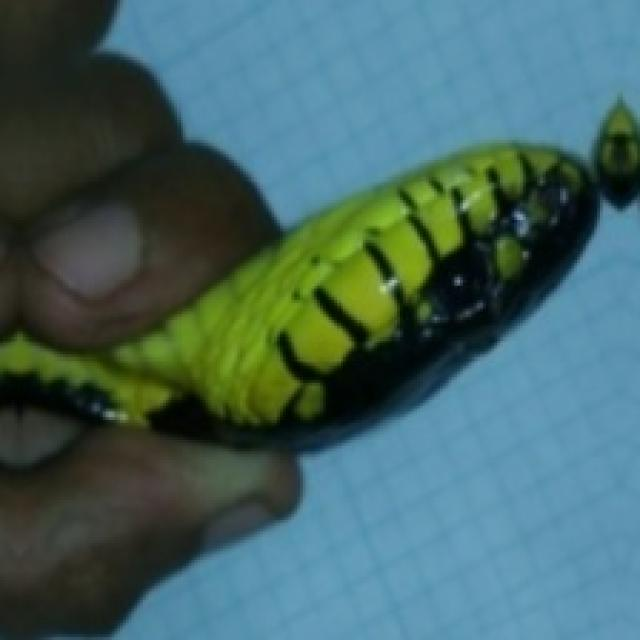mangrove cat snake: (0, 100, 637, 437)
